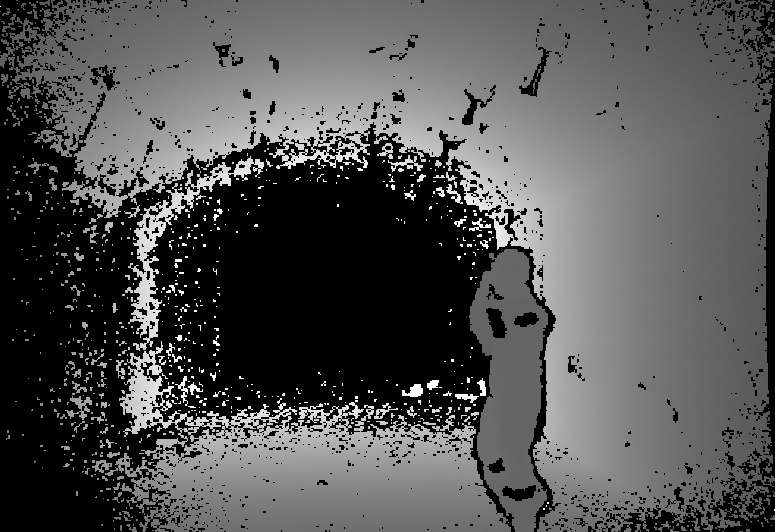person: (471, 249, 550, 532)
